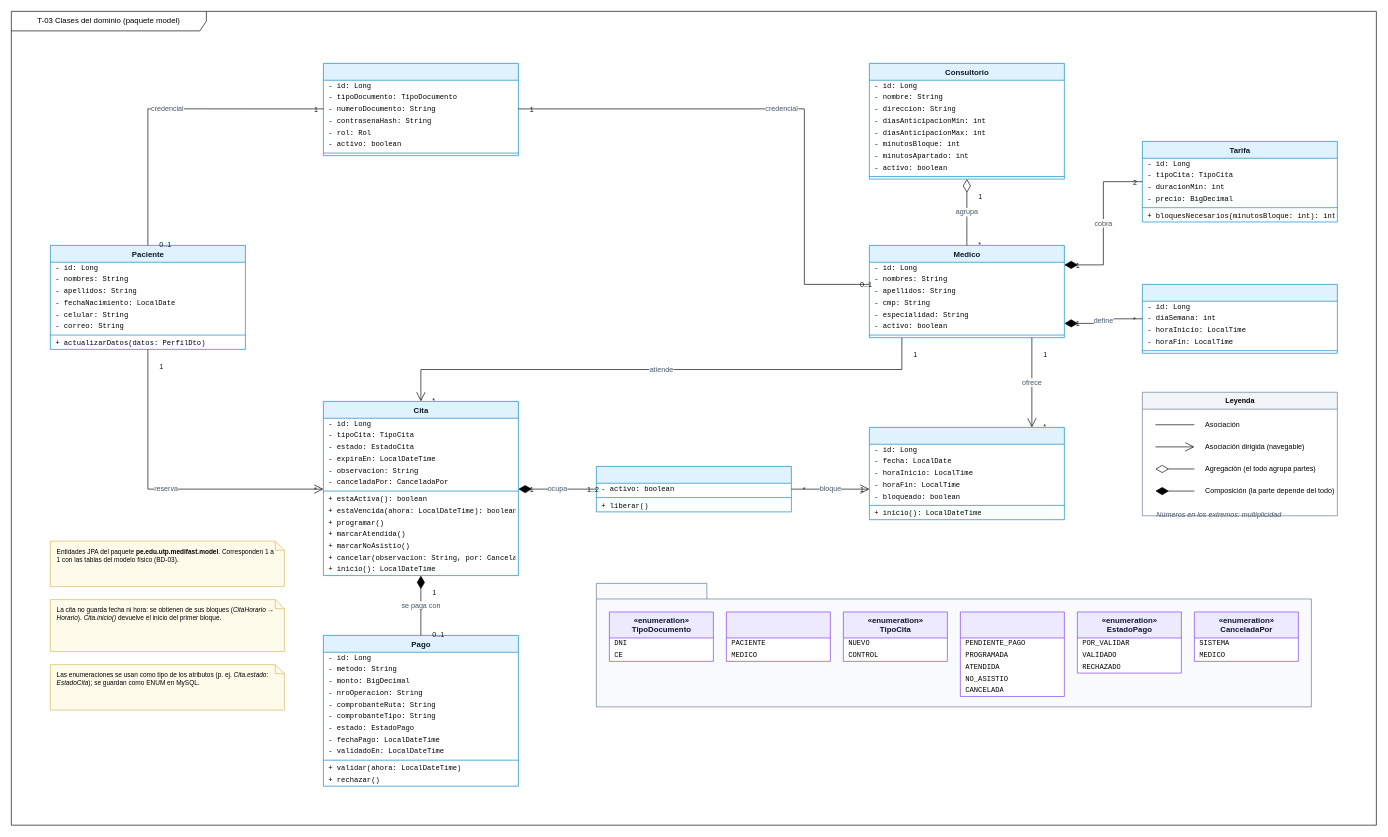
The diagram is 1388 pixels wide and 837 high, and some of its shapes have lost their labels. The shapes that lost their labels are listed below. From the top down, each one's box as (x1, y1, x2, y2) in pixels, then its label:
(323, 63, 518, 156): Usuario
(1142, 284, 1337, 353): HorarioSemanal
(596, 466, 791, 512): CitaHorario
(869, 427, 1064, 520): Horario
(726, 611, 830, 661): «enumeration» Rol
(596, 583, 1311, 707): Enumeraciones
(960, 611, 1064, 696): «enumeration» EstadoCita
